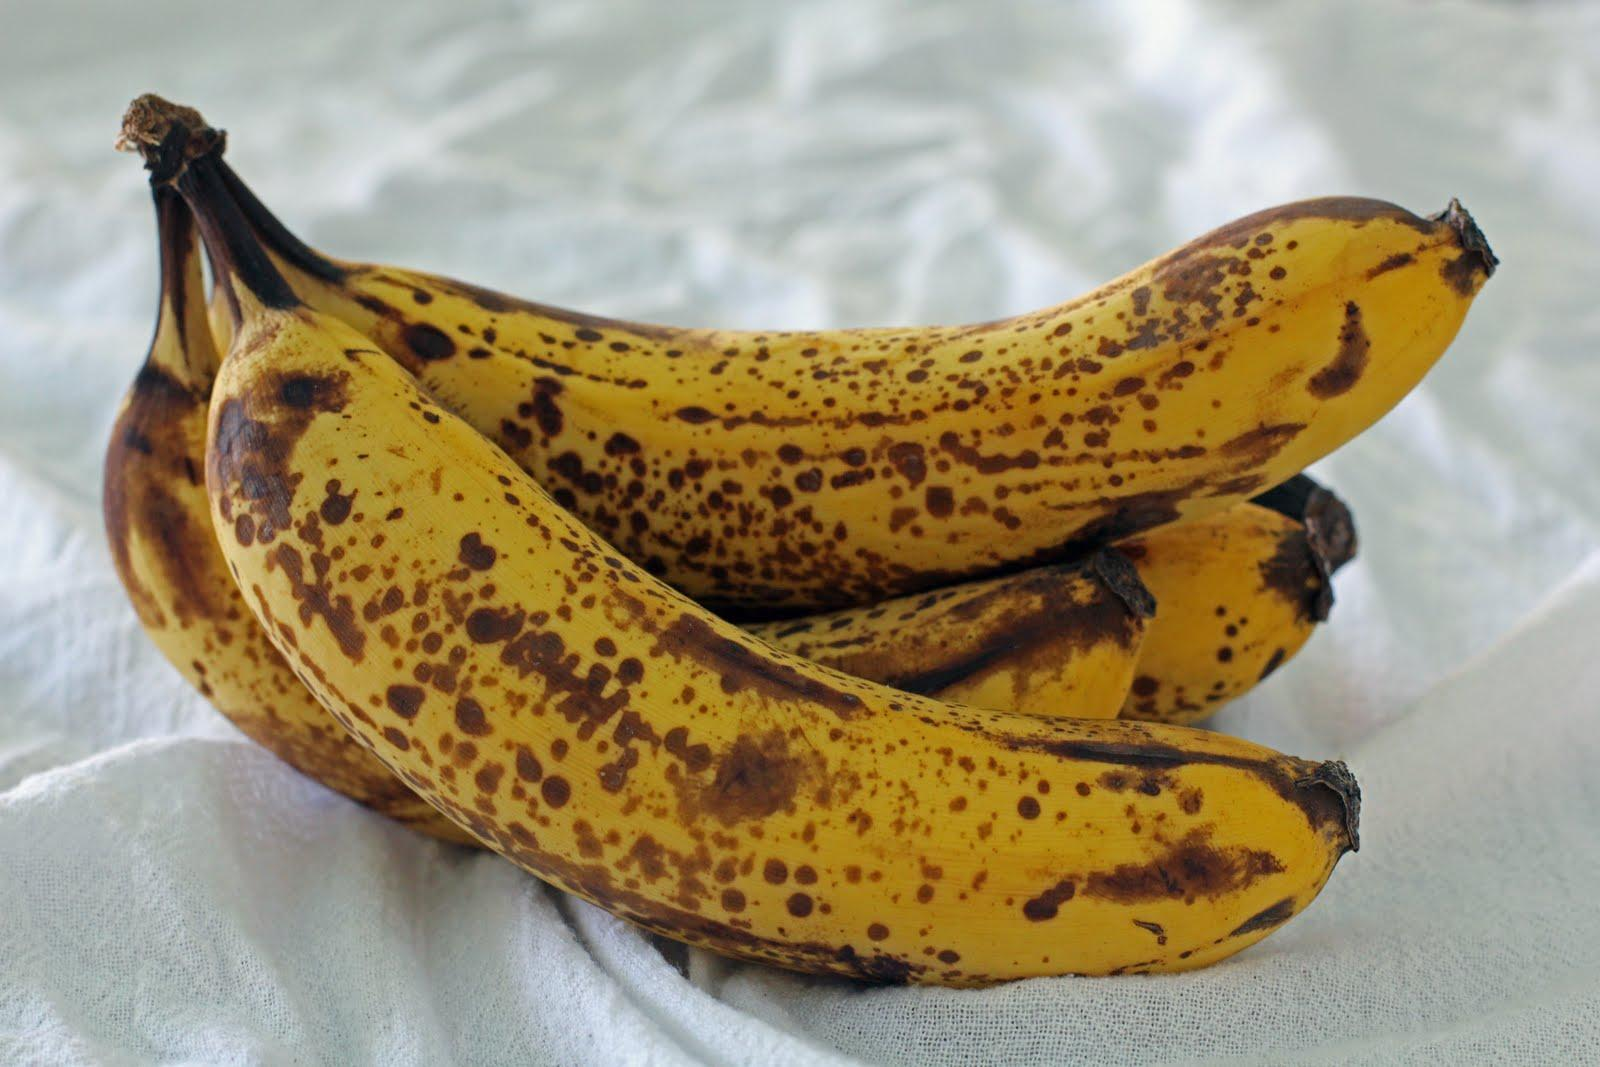Banana Semifresh: (95, 93, 1512, 996)
